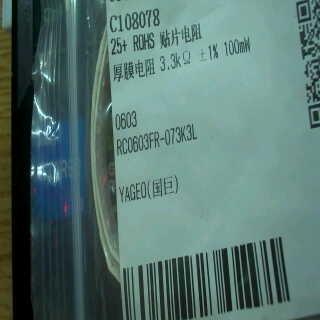3.3kO: (158, 45, 193, 74)
